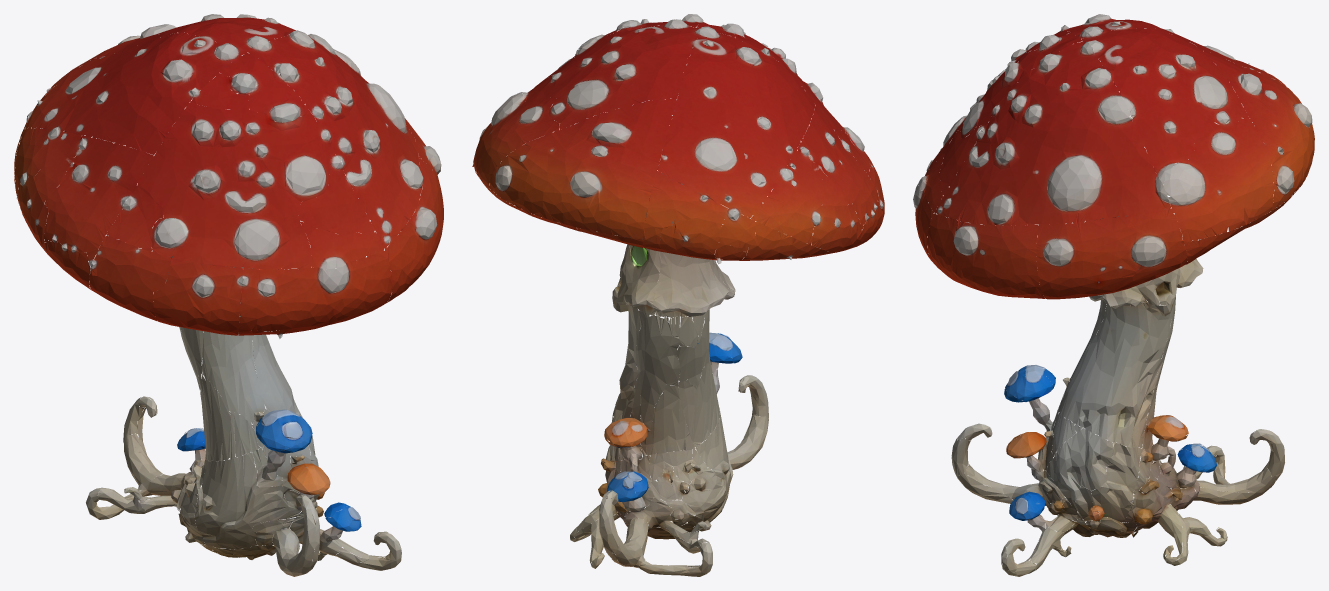
File: sporecap.glb
3 renders of one model, left to right at view 1: azimuth 30°, elevation 25°; view 2: azimuth 150°, elevation 25°; view 3: azimuth 270°, elevation 25°, orthographic. The views are drawn at different scales.
Visible parts, largest first — view 1: tripo_node_c56c34e8-134f-4983-839f-e5a02ee0c60d; view 2: tripo_node_c56c34e8-134f-4983-839f-e5a02ee0c60d; view 3: tripo_node_c56c34e8-134f-4983-839f-e5a02ee0c60d.
Boxes of the visible parts, x1,y1,x2,y2 form: tripo_node_c56c34e8-134f-4983-839f-e5a02ee0c60d: [14, 14, 443, 576]; tripo_node_c56c34e8-134f-4983-839f-e5a02ee0c60d: [472, 14, 884, 576]; tripo_node_c56c34e8-134f-4983-839f-e5a02ee0c60d: [913, 14, 1314, 576].
Bounding box in the file's own units: 0.7496 × 1 × 0.7344.
Materials: 1 (1 with a texture image).
